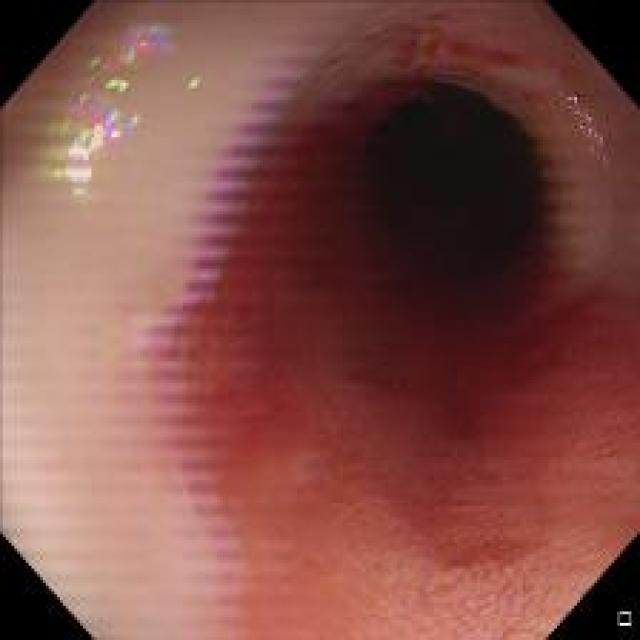color misalignment: (176, 52, 290, 606), (40, 20, 178, 201), (556, 86, 606, 158), (419, 91, 436, 108)
contrast: (339, 88, 580, 350)
